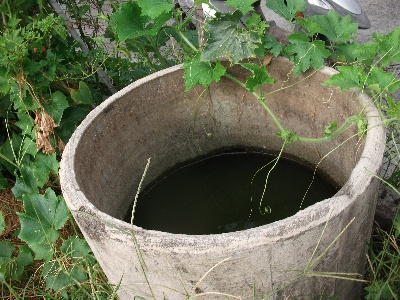bucket: (58, 54, 387, 300)
